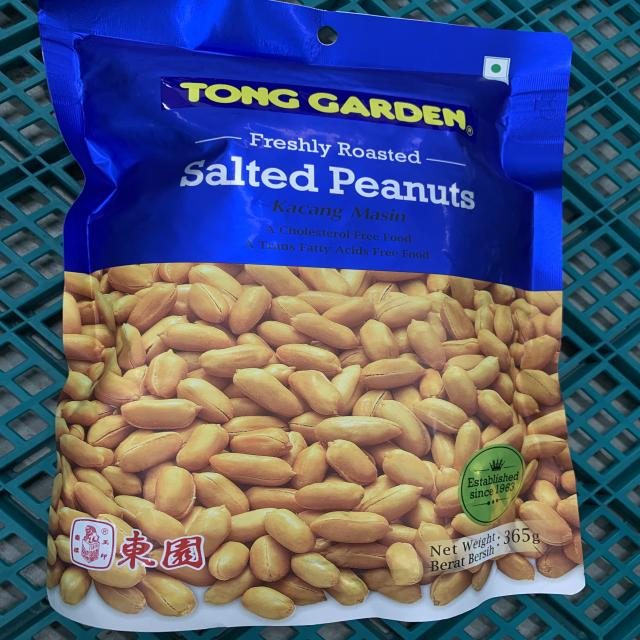object_name: (57, 11, 576, 611)
